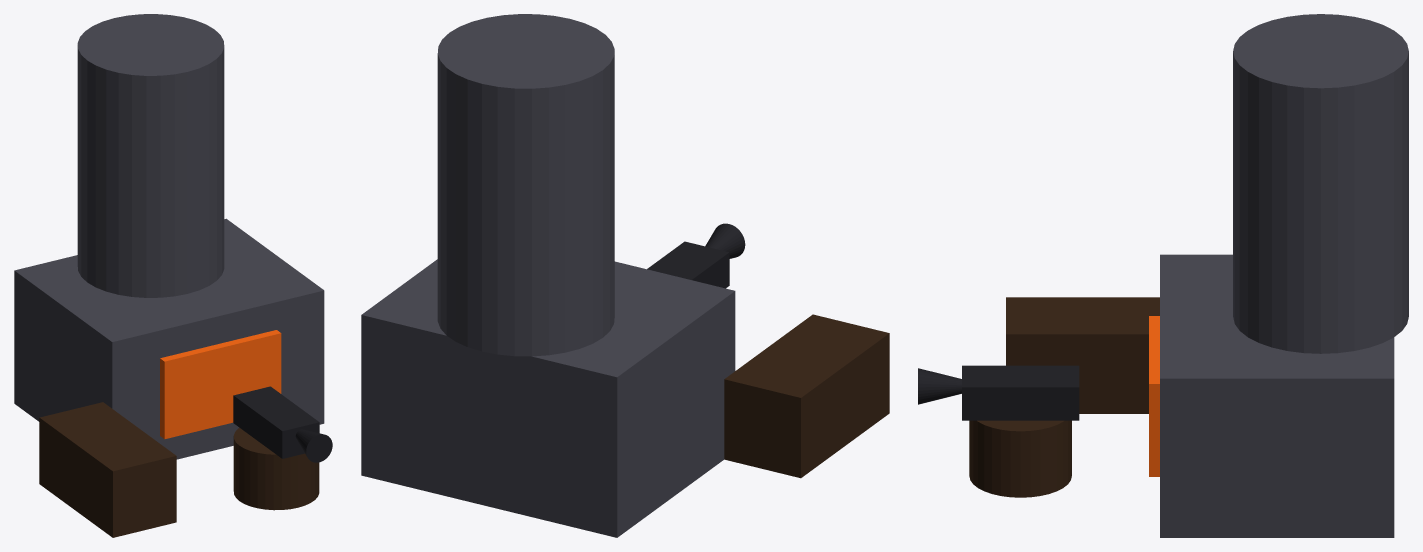
File: Forja_Blacksmith_Lobby.obj
3 renders of one model, left to right at view 1: azimuth 30°, elevation 25°; view 2: azimuth 150°, elevation 25°; view 3: azimuth 270°, elevation 25°, orthographic. The views are drawn at different scales.
Parts seen in each view (by area): view 1: Chimney, Hearth_Base, Water_Trough, Fire_Chamber, Anvil_Stump, Anvil_Body, Anvil_Horn; view 2: Hearth_Base, Chimney, Water_Trough, Anvil_Body, Anvil_Horn; view 3: Chimney, Hearth_Base, Water_Trough, Anvil_Stump, Anvil_Body, Fire_Chamber, Anvil_Horn.
Boxes of the visible parts, left/top/right/bottom form: Chimney: left=77, top=14, right=224, bottom=297; Hearth_Base: left=14, top=218, right=324, bottom=459; Water_Trough: left=39, top=402, right=176, bottom=537; Fire_Chamber: left=160, top=330, right=281, bottom=439; Anvil_Stump: left=233, top=428, right=319, bottom=510; Anvil_Body: left=233, top=386, right=319, bottom=458; Anvil_Horn: left=295, top=429, right=332, bottom=462; Hearth_Base: left=361, top=259, right=735, bottom=537; Chimney: left=437, top=14, right=614, bottom=356; Water_Trough: left=724, top=314, right=889, bottom=478; Anvil_Body: left=647, top=241, right=729, bottom=288; Anvil_Horn: left=705, top=223, right=745, bottom=258; Chimney: left=1233, top=14, right=1408, bottom=353; Hearth_Base: left=1160, top=254, right=1394, bottom=537; Water_Trough: left=1006, top=297, right=1159, bottom=413; Anvil_Stump: left=969, top=420, right=1071, bottom=497; Anvil_Body: left=962, top=365, right=1079, bottom=420; Fire_Chamber: left=1149, top=316, right=1159, bottom=476; Anvil_Horn: left=918, top=368, right=961, bottom=404.
Bounding box in the file's own units: 5.2 × 6.4 × 6.7.
